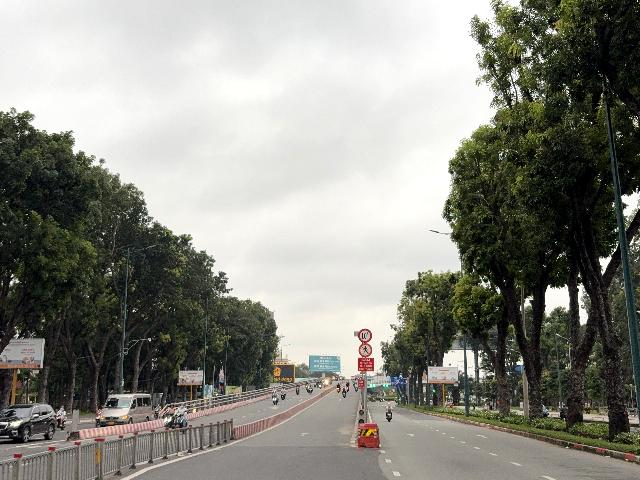cam-nguoi-di-bo: (359, 343, 372, 357)
han-che-trong-luong-xe: (358, 328, 372, 343)
